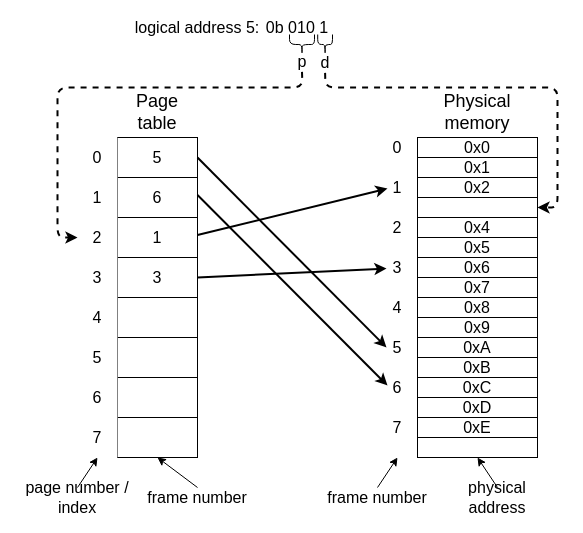
The diagram is 583 pixels wide and 533 high, and some of its shapes have lost their labels. Each missing label, with the box of its shape:
0x3: (416, 196, 538, 218)
0xF: (416, 436, 538, 458)
